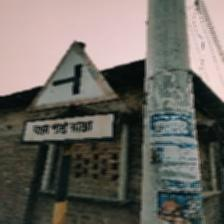Side-road-left: (23, 40, 123, 147)
